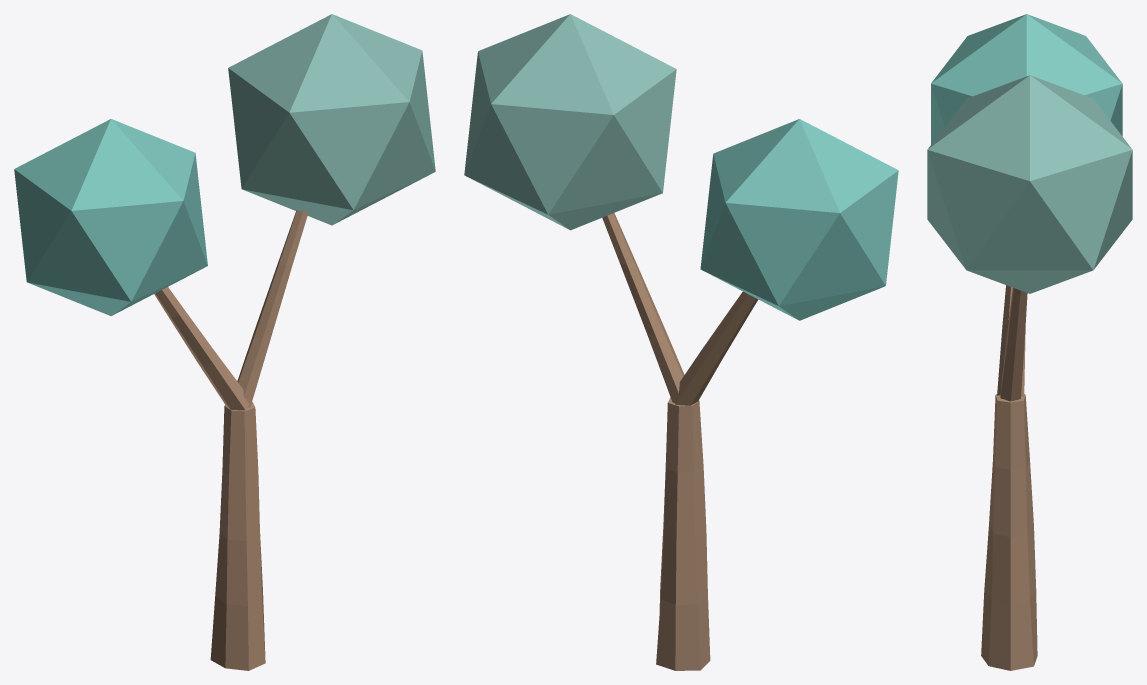
File: 02_Tree_Medium.glb
The picture shows the model from 3 angles, left to right: view 1: azimuth 30°, elevation 25°; view 2: azimuth 150°, elevation 25°; view 3: azimuth 270°, elevation 25°; orthographic projection. The views are drawn at different scales.
Parts seen in each view (by area): view 1: Tree_Medium_FoliageR, Tree_Medium_FoliageL, Tree_Medium_Trunk, Tree_Medium_BranchR, Tree_Medium_BranchL; view 2: Tree_Medium_FoliageR, Tree_Medium_FoliageL, Tree_Medium_Trunk, Tree_Medium_BranchR, Tree_Medium_BranchL; view 3: Tree_Medium_FoliageR, Tree_Medium_Trunk, Tree_Medium_FoliageL, Tree_Medium_BranchR, Tree_Medium_BranchL.
Boxes of the visible parts, x1=… form: Tree_Medium_FoliageR: x1=228, y1=14, x2=435, y2=225; Tree_Medium_FoliageL: x1=14, y1=119, x2=207, y2=315; Tree_Medium_Trunk: x1=210, y1=402, x2=265, y2=670; Tree_Medium_BranchR: x1=237, y1=210, x2=308, y2=407; Tree_Medium_BranchL: x1=154, y1=287, x2=249, y2=410; Tree_Medium_FoliageR: x1=464, y1=14, x2=676, y2=230; Tree_Medium_FoliageL: x1=700, y1=119, x2=898, y2=320; Tree_Medium_Trunk: x1=656, y1=397, x2=710, y2=670; Tree_Medium_BranchR: x1=602, y1=213, x2=684, y2=402; Tree_Medium_BranchL: x1=674, y1=291, x2=758, y2=405; Tree_Medium_FoliageR: x1=927, y1=75, x2=1132, y2=293; Tree_Medium_Trunk: x1=981, y1=394, x2=1037, y2=670; Tree_Medium_FoliageL: x1=931, y1=14, x2=1122, y2=144; Tree_Medium_BranchR: x1=1000, y1=288, x2=1027, y2=401; Tree_Medium_BranchL: x1=997, y1=285, x2=1025, y2=396.
Size of the model in its own units: 2.95 by 4.35 by 1.28.
